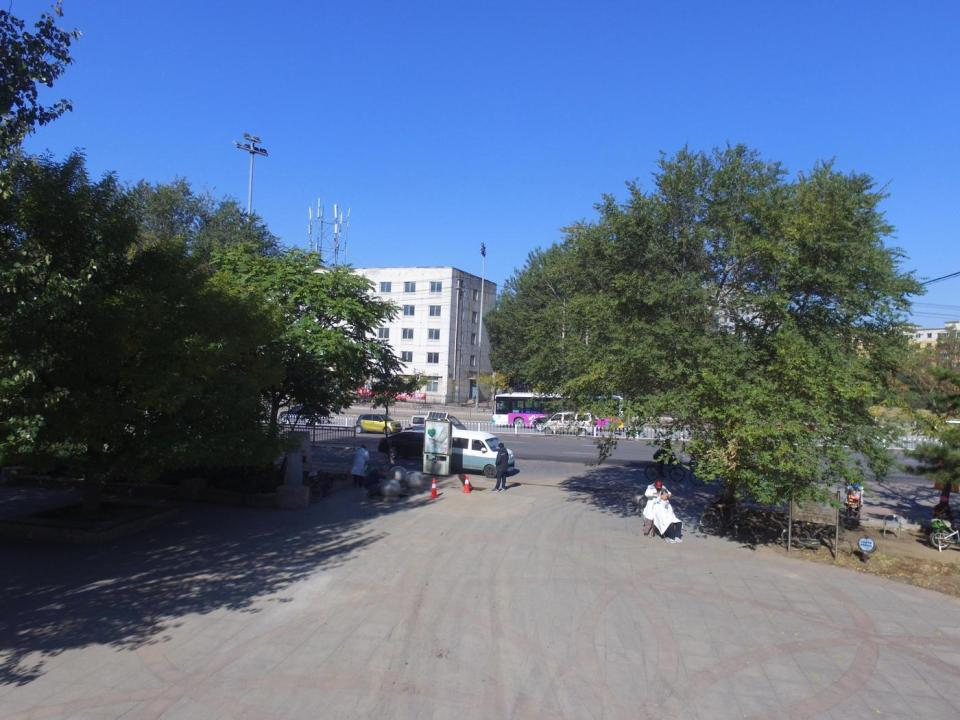bus: (492, 390, 630, 434)
car: (377, 430, 440, 459), (532, 412, 584, 436), (282, 404, 333, 428), (354, 413, 403, 436)
van: (433, 428, 516, 478), (406, 413, 470, 446), (544, 410, 596, 440)
